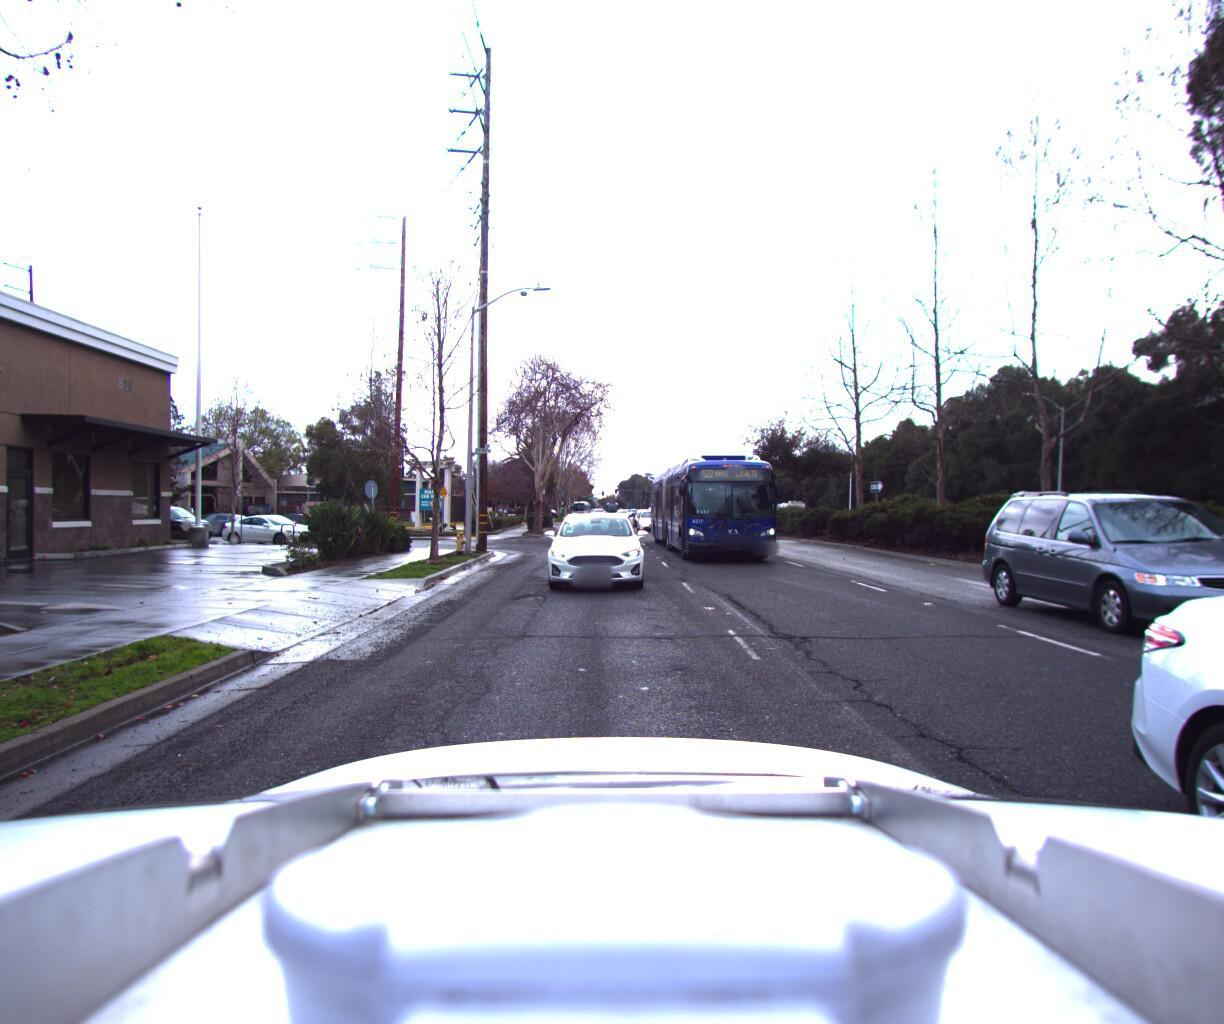bus: (646, 453, 788, 575)
car: (969, 487, 1224, 659), (536, 499, 644, 601), (117, 509, 229, 551), (218, 520, 334, 554), (633, 510, 668, 539)
other_vehicle: (963, 494, 1080, 554)
